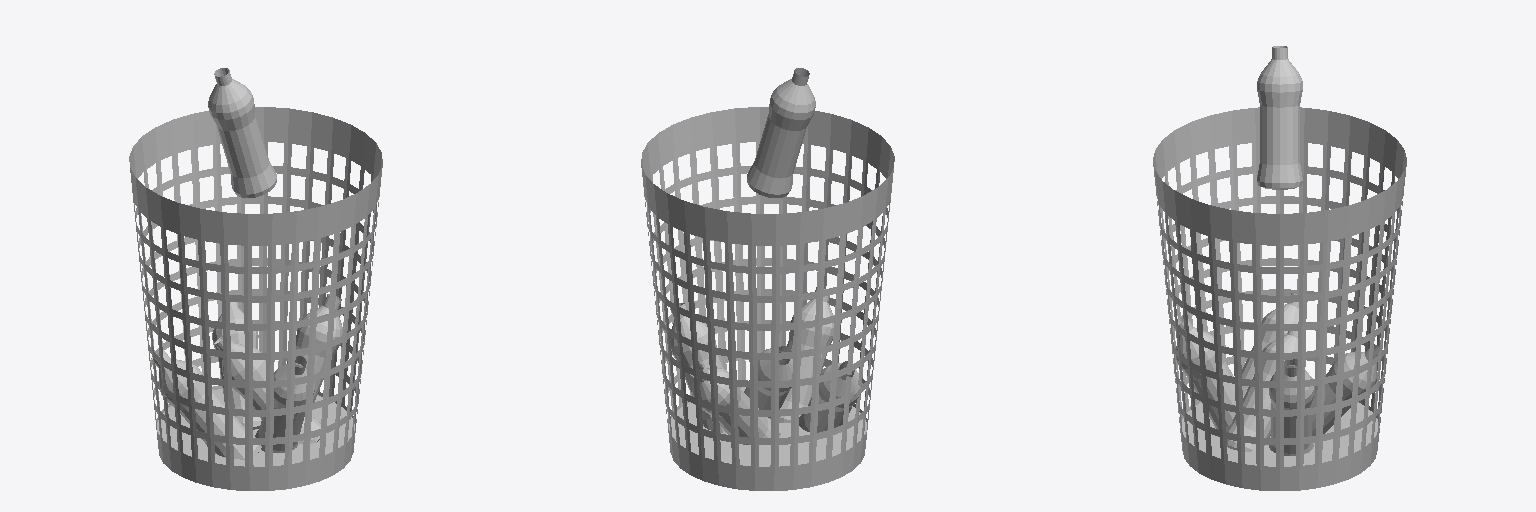
The model's file is DustbinWithCan_000020.obj.
The picture shows the model from 3 angles: view 1: azimuth 30°, elevation 25°; view 2: azimuth 150°, elevation 25°; view 3: azimuth 270°, elevation 25°; orthographic projection.
Visible parts, largest first — view 1: Cylinder, Plane.006, Plane.005, Plane.001, Plane.004, Plane.003, Plane.002; view 2: Cylinder, Plane.006, Plane.001, Plane.002, Plane.005, Plane.003, Plane.004; view 3: Cylinder, Plane.006, Plane.001, Plane.003, Plane.004, Plane.002, Plane.005.
Boxes of the visible parts, box(x1,y1,x2,y2) form: Cylinder: box(129, 107, 382, 490); Plane.006: box(208, 68, 276, 197); Plane.005: box(151, 350, 261, 459); Plane.001: box(255, 356, 314, 452); Plane.004: box(214, 336, 320, 443); Plane.003: box(287, 294, 342, 402); Plane.002: box(212, 302, 261, 429); Cylinder: box(641, 107, 894, 490); Plane.006: box(747, 68, 815, 197); Plane.001: box(770, 287, 833, 422); Plane.002: box(690, 363, 780, 444); Plane.005: box(799, 361, 862, 432); Plane.003: box(670, 303, 725, 432); Plane.004: box(744, 346, 792, 417); Cylinder: box(1153, 107, 1406, 490); Plane.006: box(1257, 46, 1302, 189); Plane.001: box(1176, 317, 1243, 430); Plane.003: box(1269, 359, 1314, 455); Plane.004: box(1226, 331, 1297, 451); Plane.002: box(1312, 344, 1382, 435); Plane.005: box(1242, 293, 1298, 395).
Bounding box in the file's own units: 2.6 × 4.39 × 2.6.